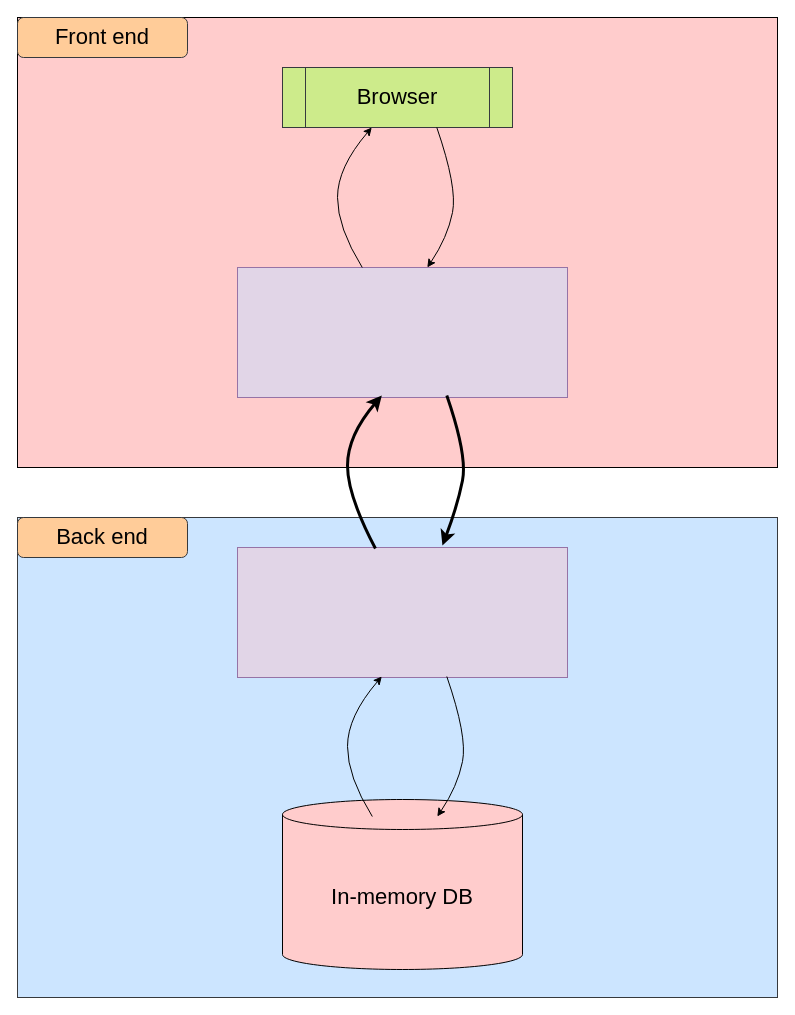
Some shapes in this 795 by 1015 pixel diagram are drawn without their labels. The centre of each missing label's shape, as x and y in pixels:
"SSR (client app)" belongs at point (402, 332).
"WebSocker API (main server)" belongs at point (402, 612).
